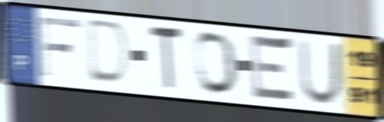D: (86, 17, 134, 89)
E: (249, 31, 298, 107)
F: (38, 15, 83, 80)
O: (192, 30, 241, 98)
T: (148, 23, 186, 94)
U: (297, 39, 344, 108)
